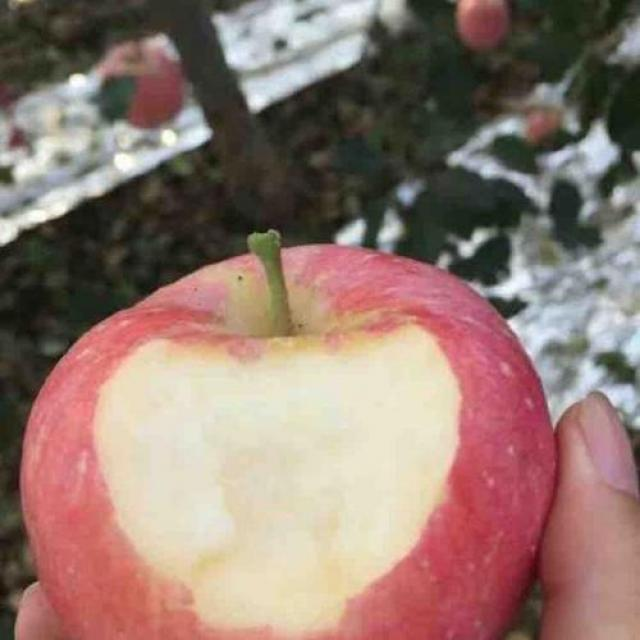Apple: (18, 237, 557, 640)
